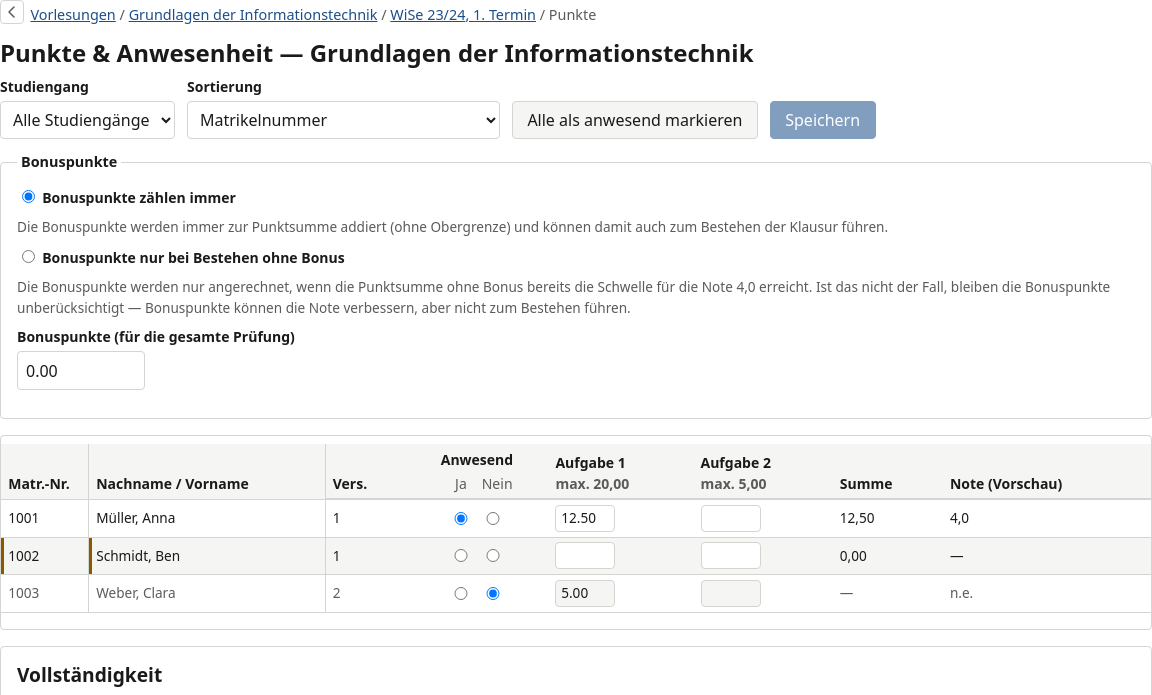
Scenario: PointsEntryPage — §8.1 recomputation warning › shows a warning naming the number of students whose grade moved
Replace the text in the field with test id "bonus-points" with "3": [81, 371] box [17,351,145,390]
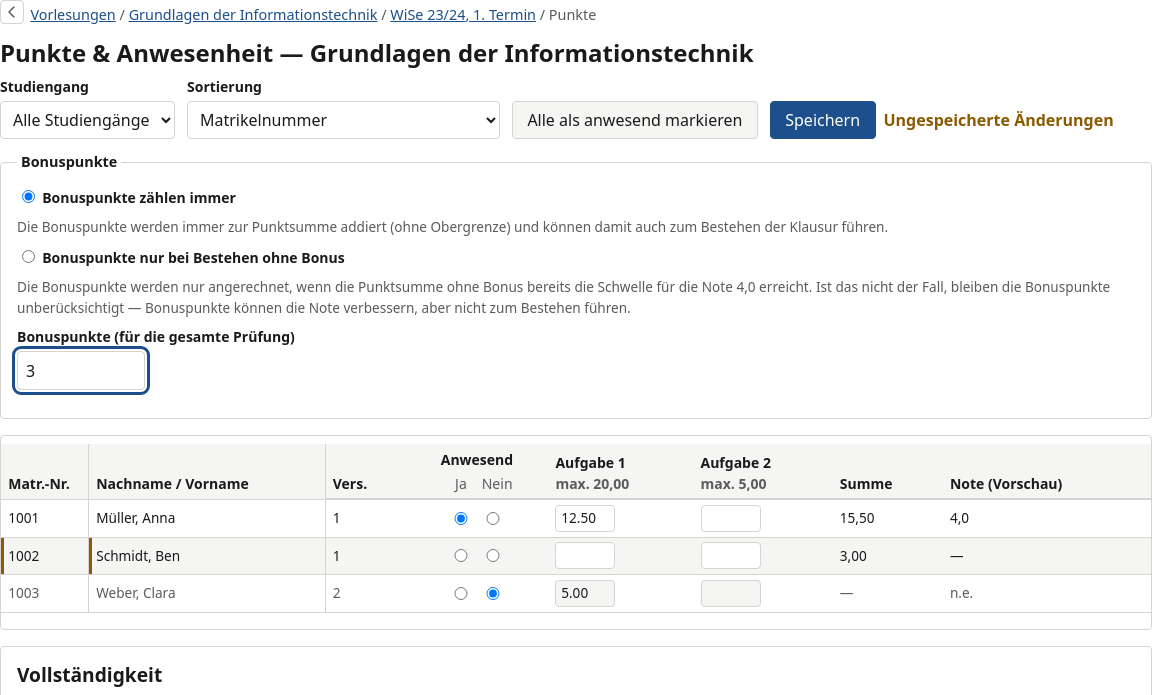
Click the button "Speichern": [823, 120] box [770,101,876,139]
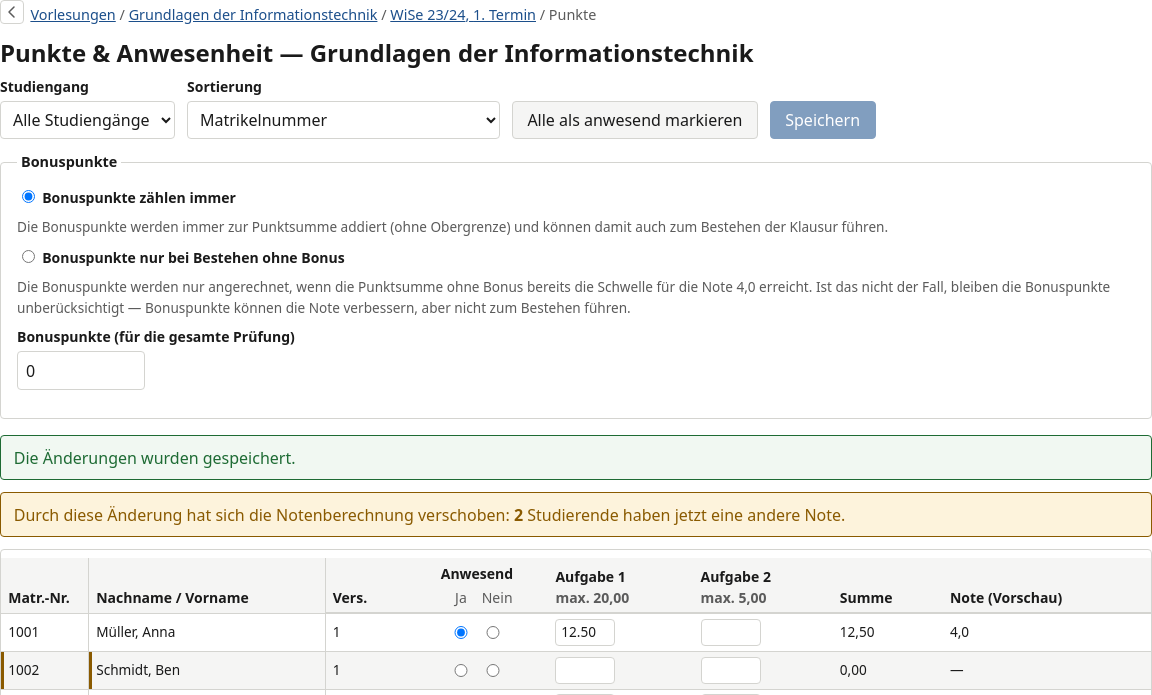
Expected: the message with test id "recomputation-warning" shows "2", [514,504,523,526]
Expected: the message with test id "recomputation-warning" shows "Studierende haben", [527,504,670,526]
